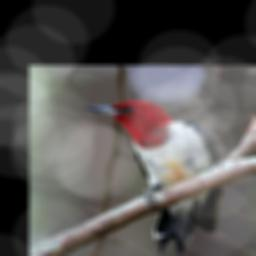Woodpecker: (82, 100, 222, 256)
